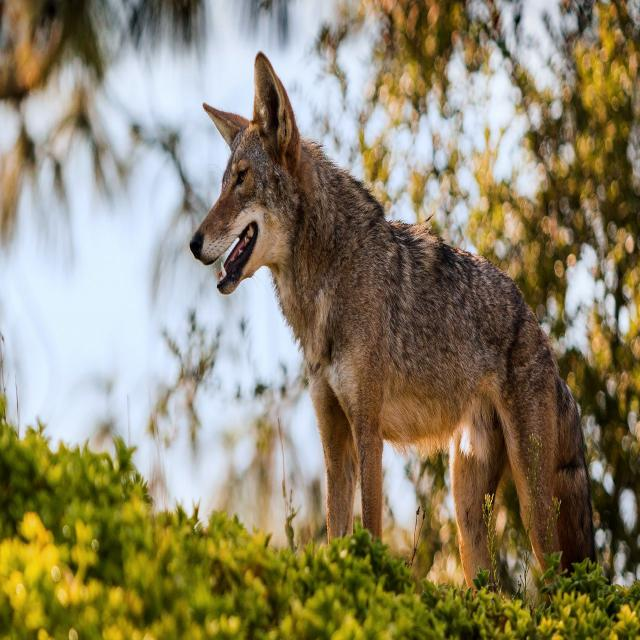coyote: (190, 53, 595, 582)
